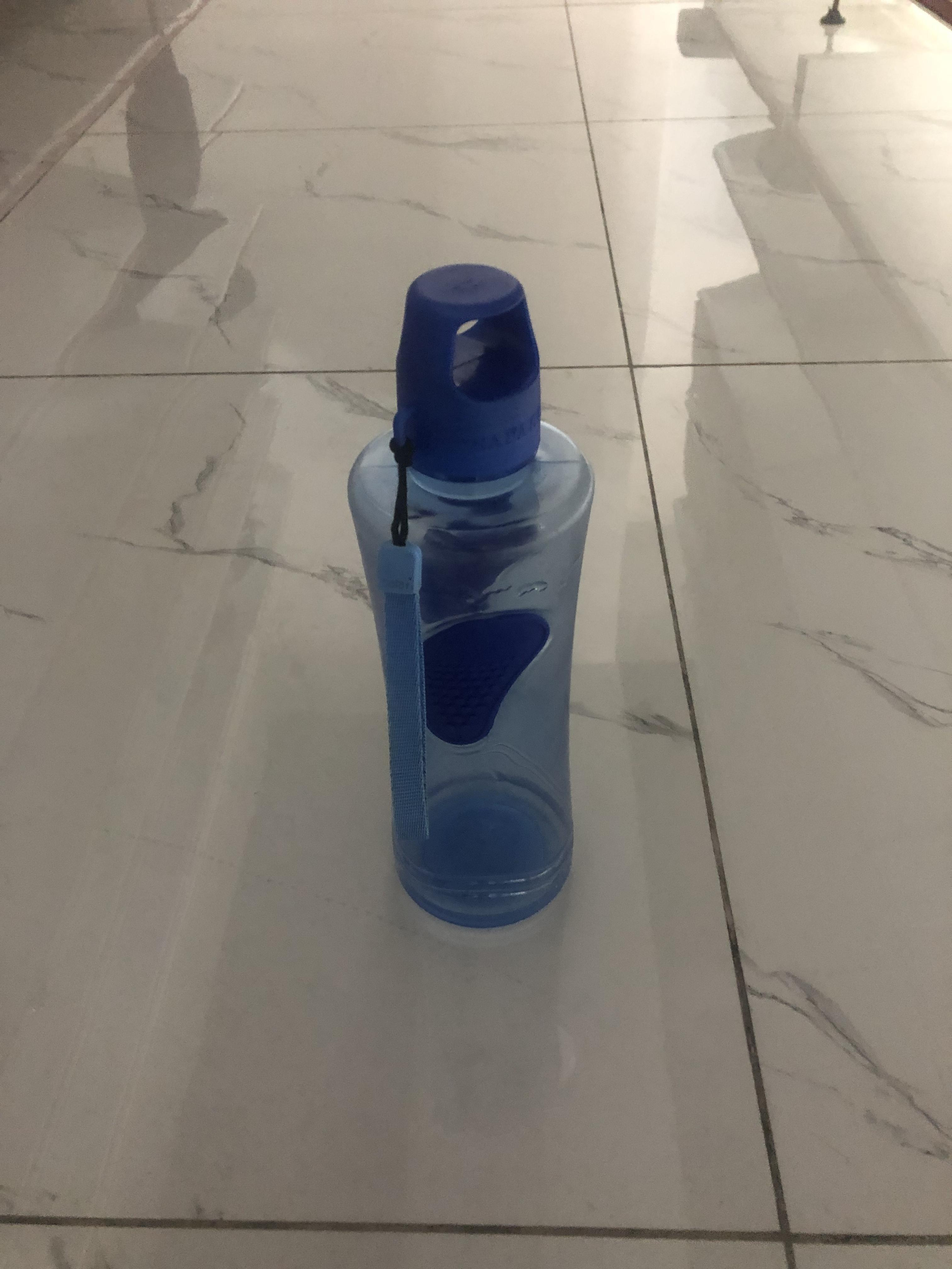gym bottle: (336, 253, 609, 932)
